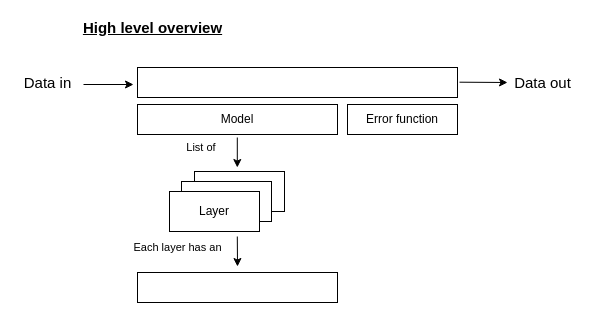
The diagram is 594 pixels wide and 320 high, and some of its shapes have lost their labels. Here are the shapes that lost their labels. From the top down, the centre of each, then its label:
the point at 297,82: Network
the point at 237,287: Activation function
